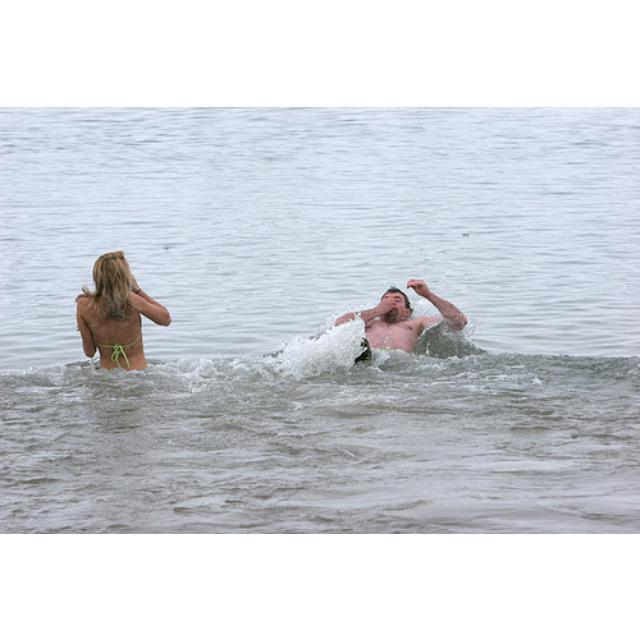human: (74, 248, 172, 377), (333, 279, 469, 359)
